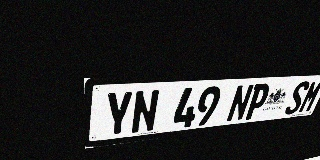4: (172, 87, 202, 129)
9: (193, 86, 223, 126)
M: (297, 80, 320, 113)
N: (130, 89, 160, 134), (225, 84, 255, 122)
P: (243, 83, 272, 120)
S: (283, 81, 311, 115)
Y: (104, 91, 134, 138)
